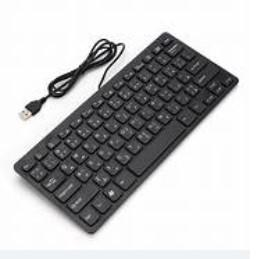Keyboard: (12, 32, 239, 235)
